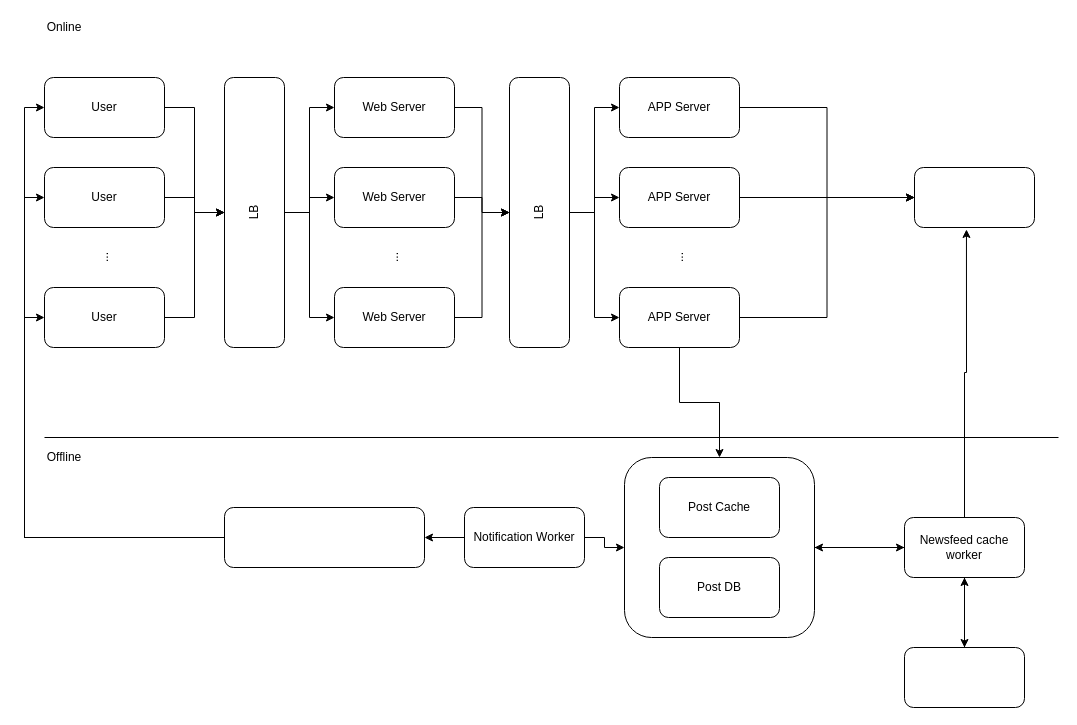
Some shapes in this 1077 by 725 pixel diagram are drawn without their labels. The shapes that lost their labels are listed below. From the top down, each one's centre as x and y in pixels, then its label:
At (974,197): "NewsFeed Cache".
At (324,537): "Message Bus".
At (964,677): "Ranking Component".
